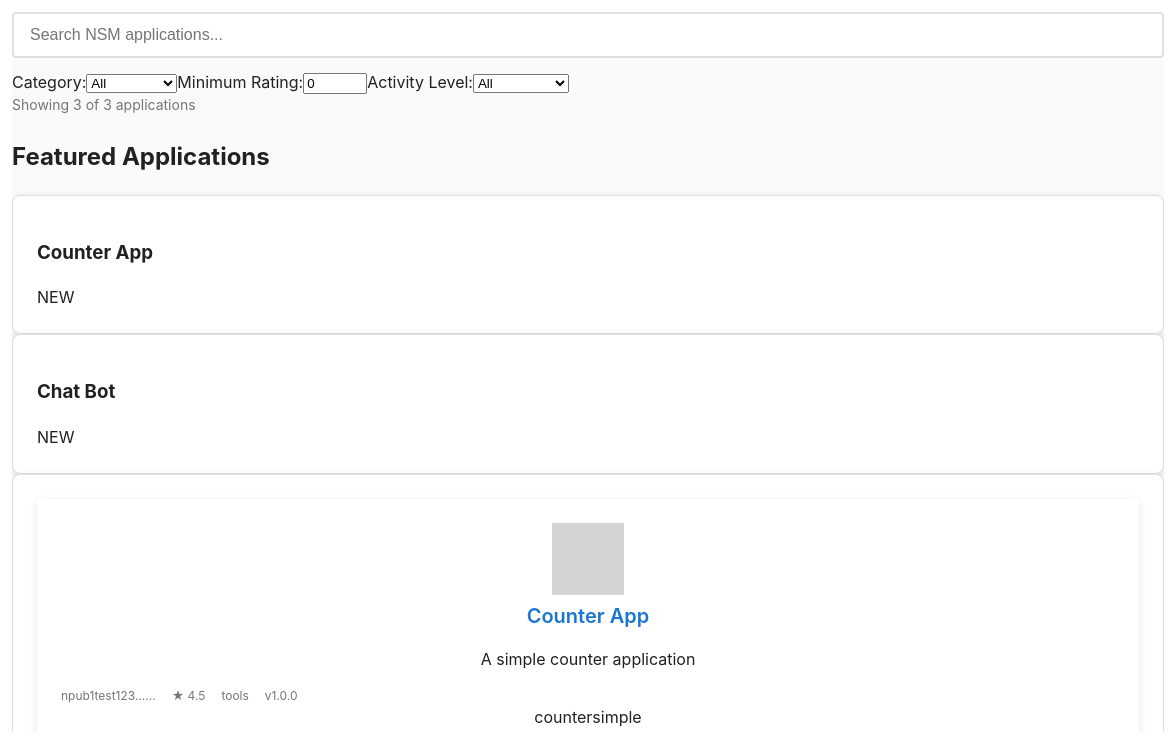
Test: EnhancedDiscovery Component › Real-time Search and Filtering › should filter applications by category
Select "Games" in the dropdown labelled "Category:" at (132, 84), box [86, 74, 177, 93]
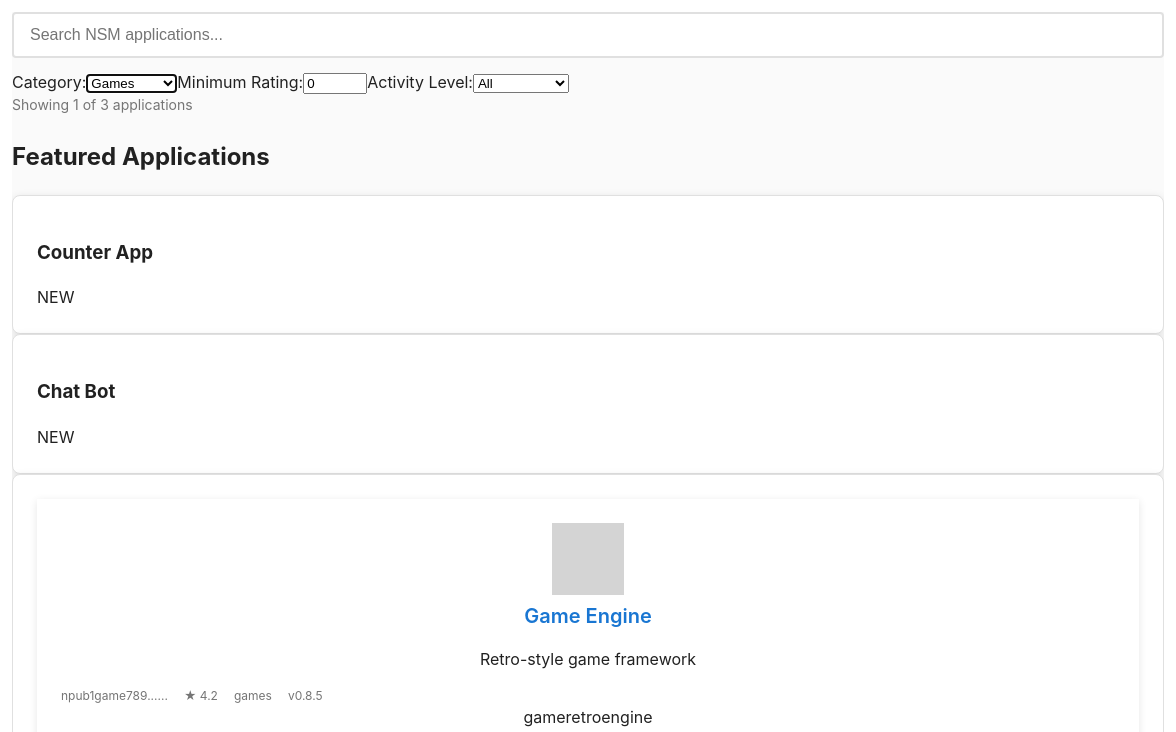
Expected: the number of headings "Counter App" is 1, [37, 241, 153, 264]
Expected: the number of headings "Game Engine" is 1, [524, 604, 652, 628]
